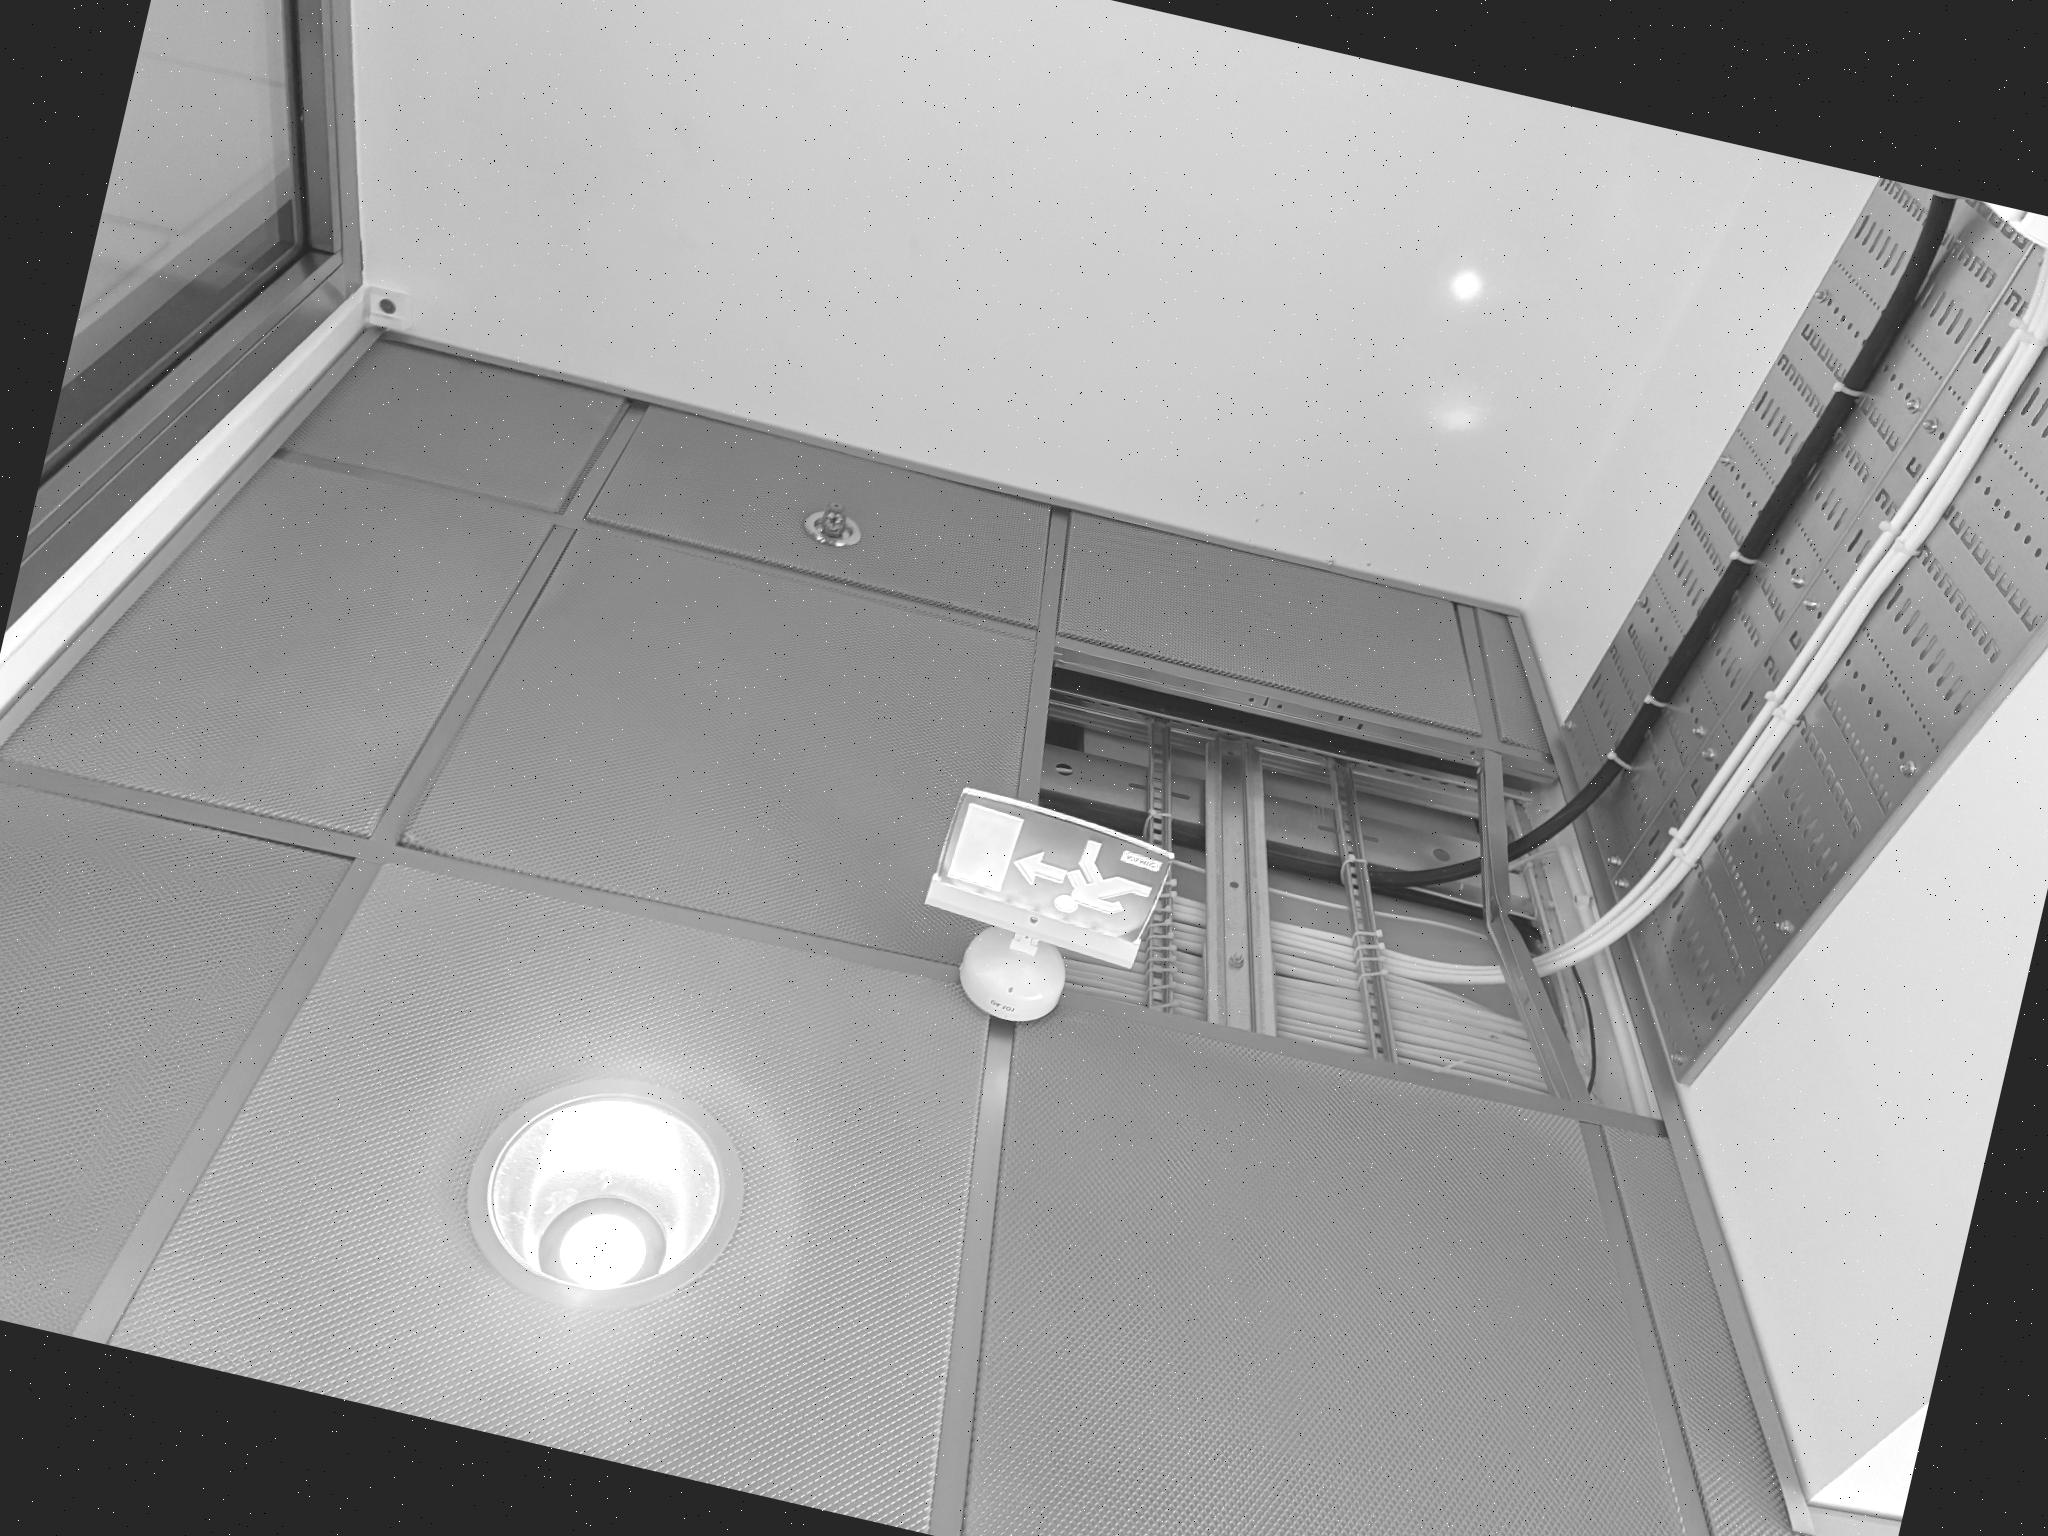exit_sign: (939, 792, 1185, 944)
